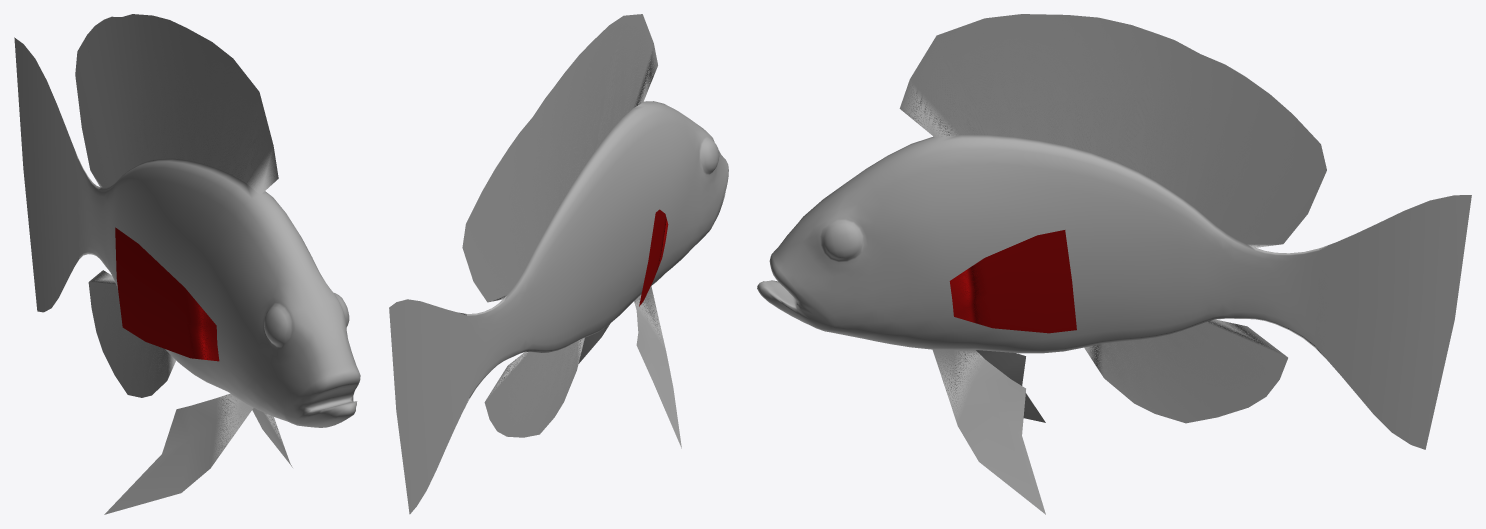
Rendered from Serranidae_A.fbx.
The picture shows the model from 3 angles, left to right: view 1: azimuth 30°, elevation 25°; view 2: azimuth 150°, elevation 25°; view 3: azimuth 270°, elevation 25°; orthographic projection. The views are drawn at different scales.
Visible parts, largest first — view 1: Serranidae_A_LOD0; view 2: Serranidae_A_LOD0; view 3: Serranidae_A_LOD0.
Boxes of the visible parts, x1=… form: Serranidae_A_LOD0: x1=14, y1=14, x2=360, y2=514; Serranidae_A_LOD0: x1=389, y1=14, x2=728, y2=514; Serranidae_A_LOD0: x1=757, y1=14, x2=1471, y2=514.
Size of what is drawn, in the model's own units: 0.3149 by 0.7275 by 1.03.
